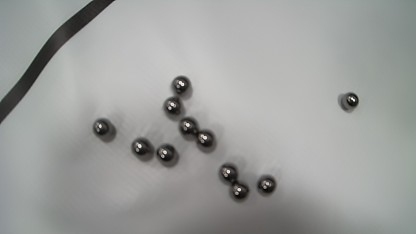ironball: (92, 118, 116, 141), (131, 137, 153, 156), (179, 117, 199, 136), (257, 175, 276, 194), (219, 163, 238, 182), (172, 75, 190, 94), (164, 96, 182, 115), (156, 144, 176, 161), (231, 181, 249, 199), (196, 130, 214, 147), (341, 92, 358, 109)
